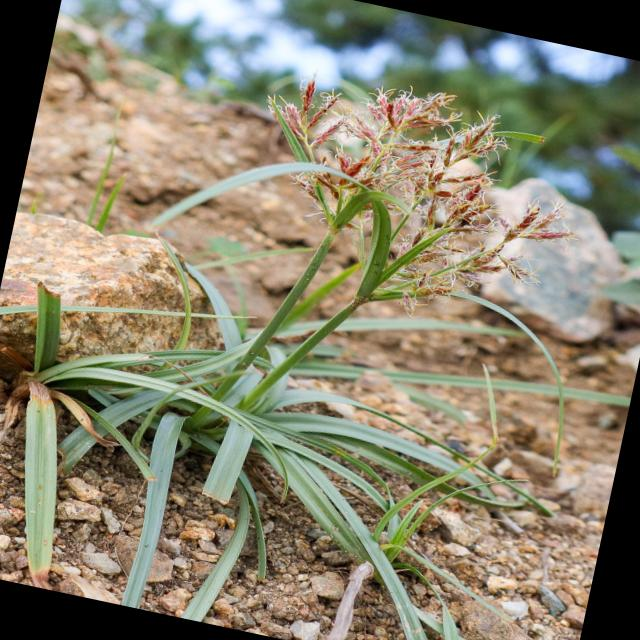cyperus: (230, 50, 605, 328)
